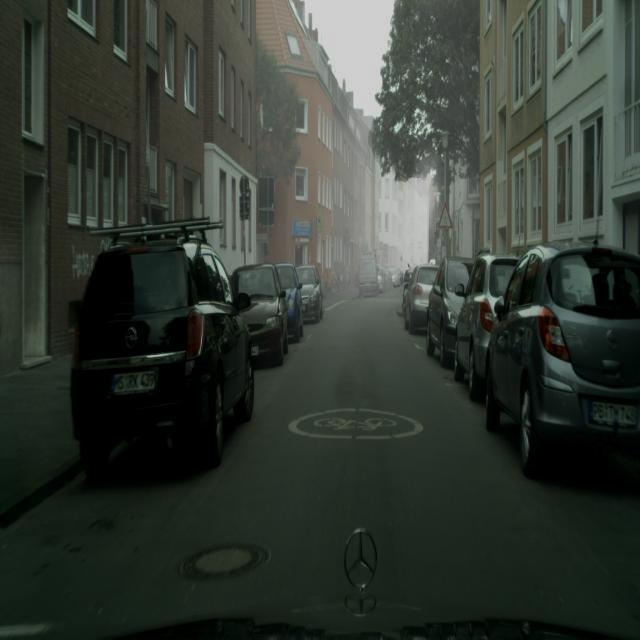truck: (69, 226, 255, 479), (484, 242, 640, 476), (452, 251, 520, 402), (230, 262, 290, 366), (426, 256, 470, 368), (404, 264, 438, 335), (274, 262, 304, 342), (295, 264, 324, 323), (359, 253, 380, 298), (377, 266, 387, 293), (390, 268, 402, 286)
